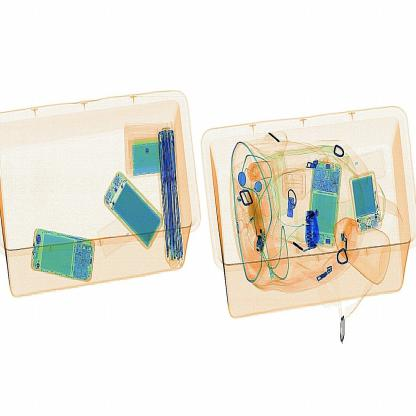scissors: (298, 201, 325, 257)
